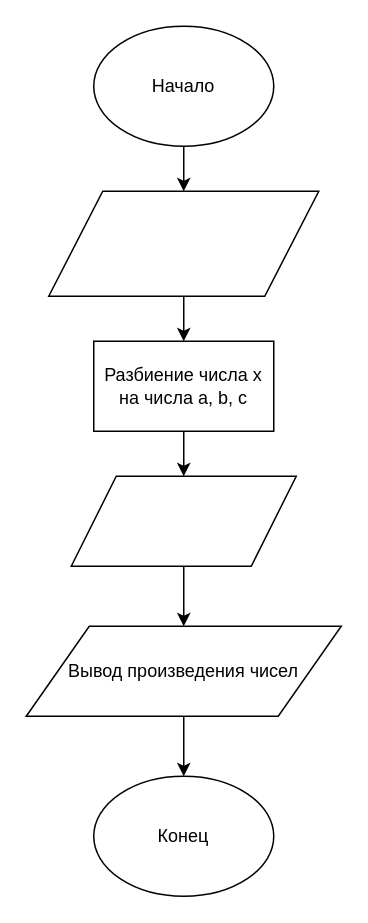
Image size: 368x923. Some labels were removed from this diagram. Each missing label, with the centre of its shape:
"Ввод трехзначного натурального числа х" belongs at (x=183, y=243).
"Вывод суммы чисел" belongs at (x=183, y=520).
